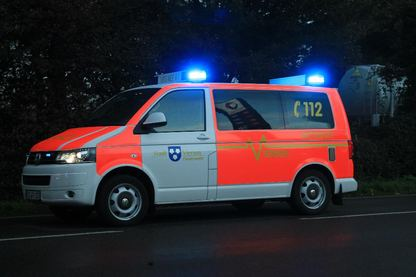ambulance: (22, 70, 357, 224)
